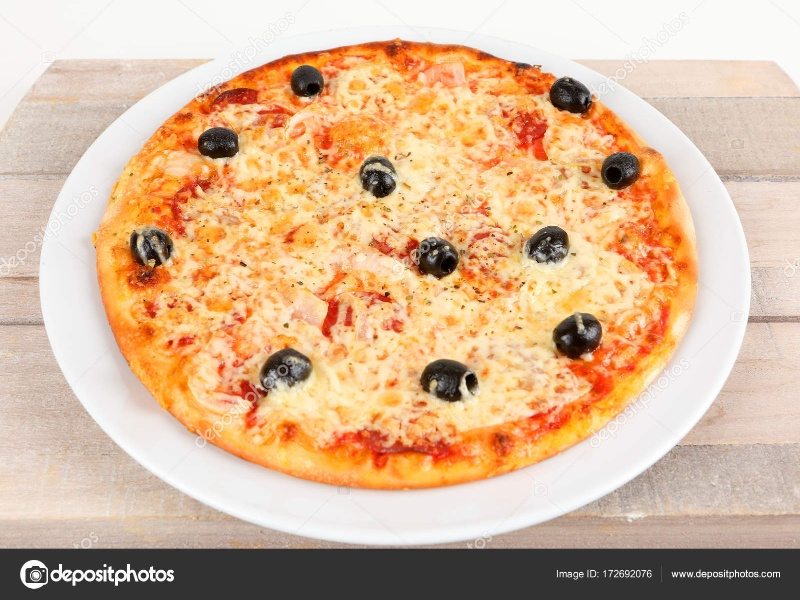olive noir: (549, 310, 604, 360), (419, 358, 476, 398), (414, 232, 460, 281), (127, 225, 174, 270), (256, 348, 313, 385), (524, 225, 575, 265), (595, 148, 641, 191), (547, 77, 594, 113), (359, 155, 399, 197), (192, 129, 241, 159), (288, 66, 331, 100)
